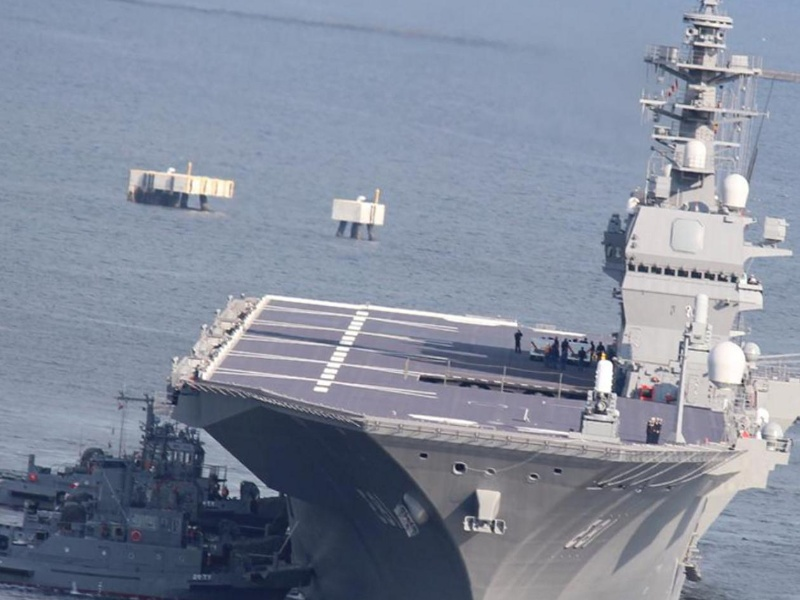carrier: (250, 18, 790, 599)
cruise: (1, 418, 257, 511), (19, 506, 284, 593)
